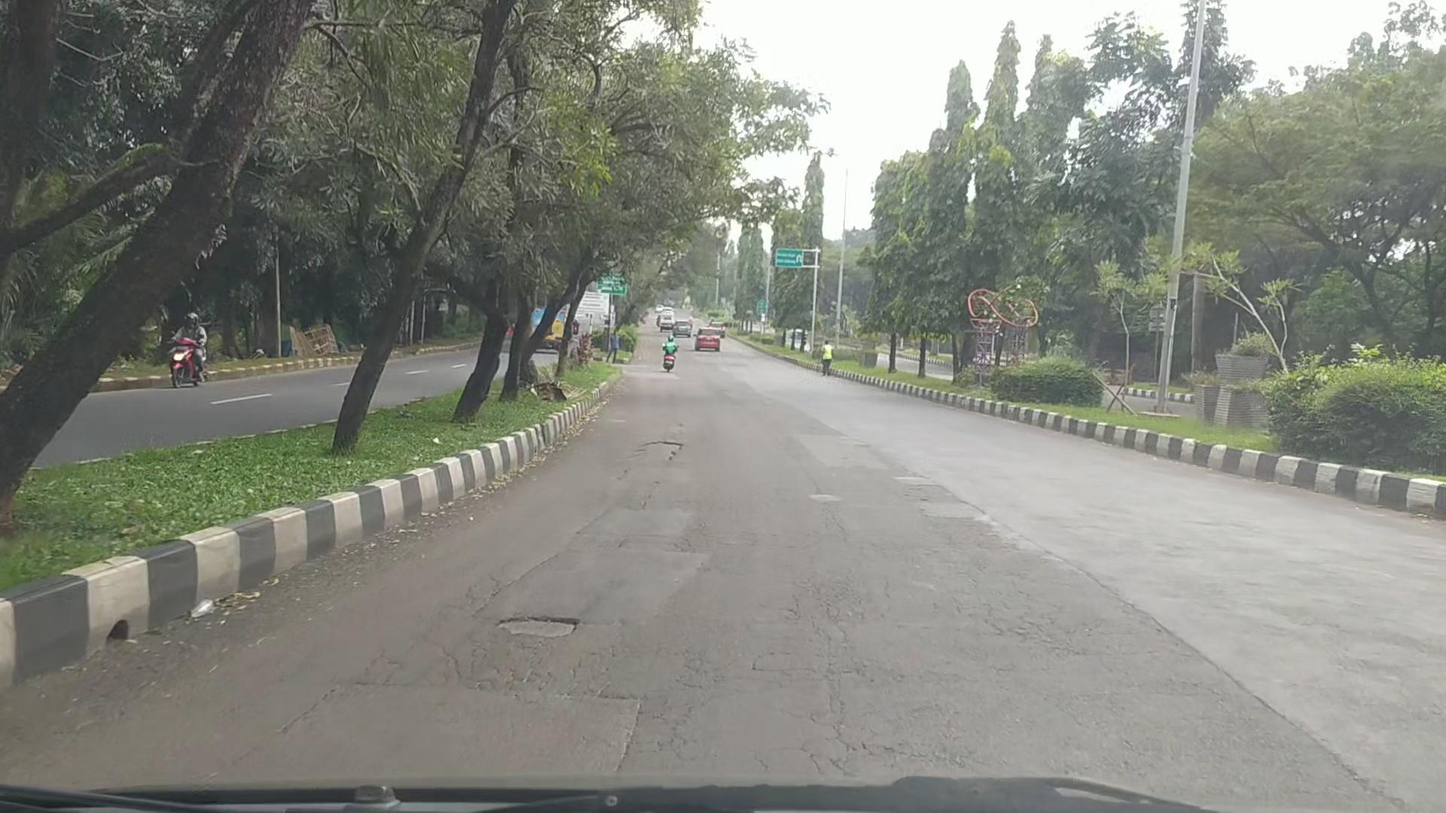pothole: (493, 616, 576, 637)
